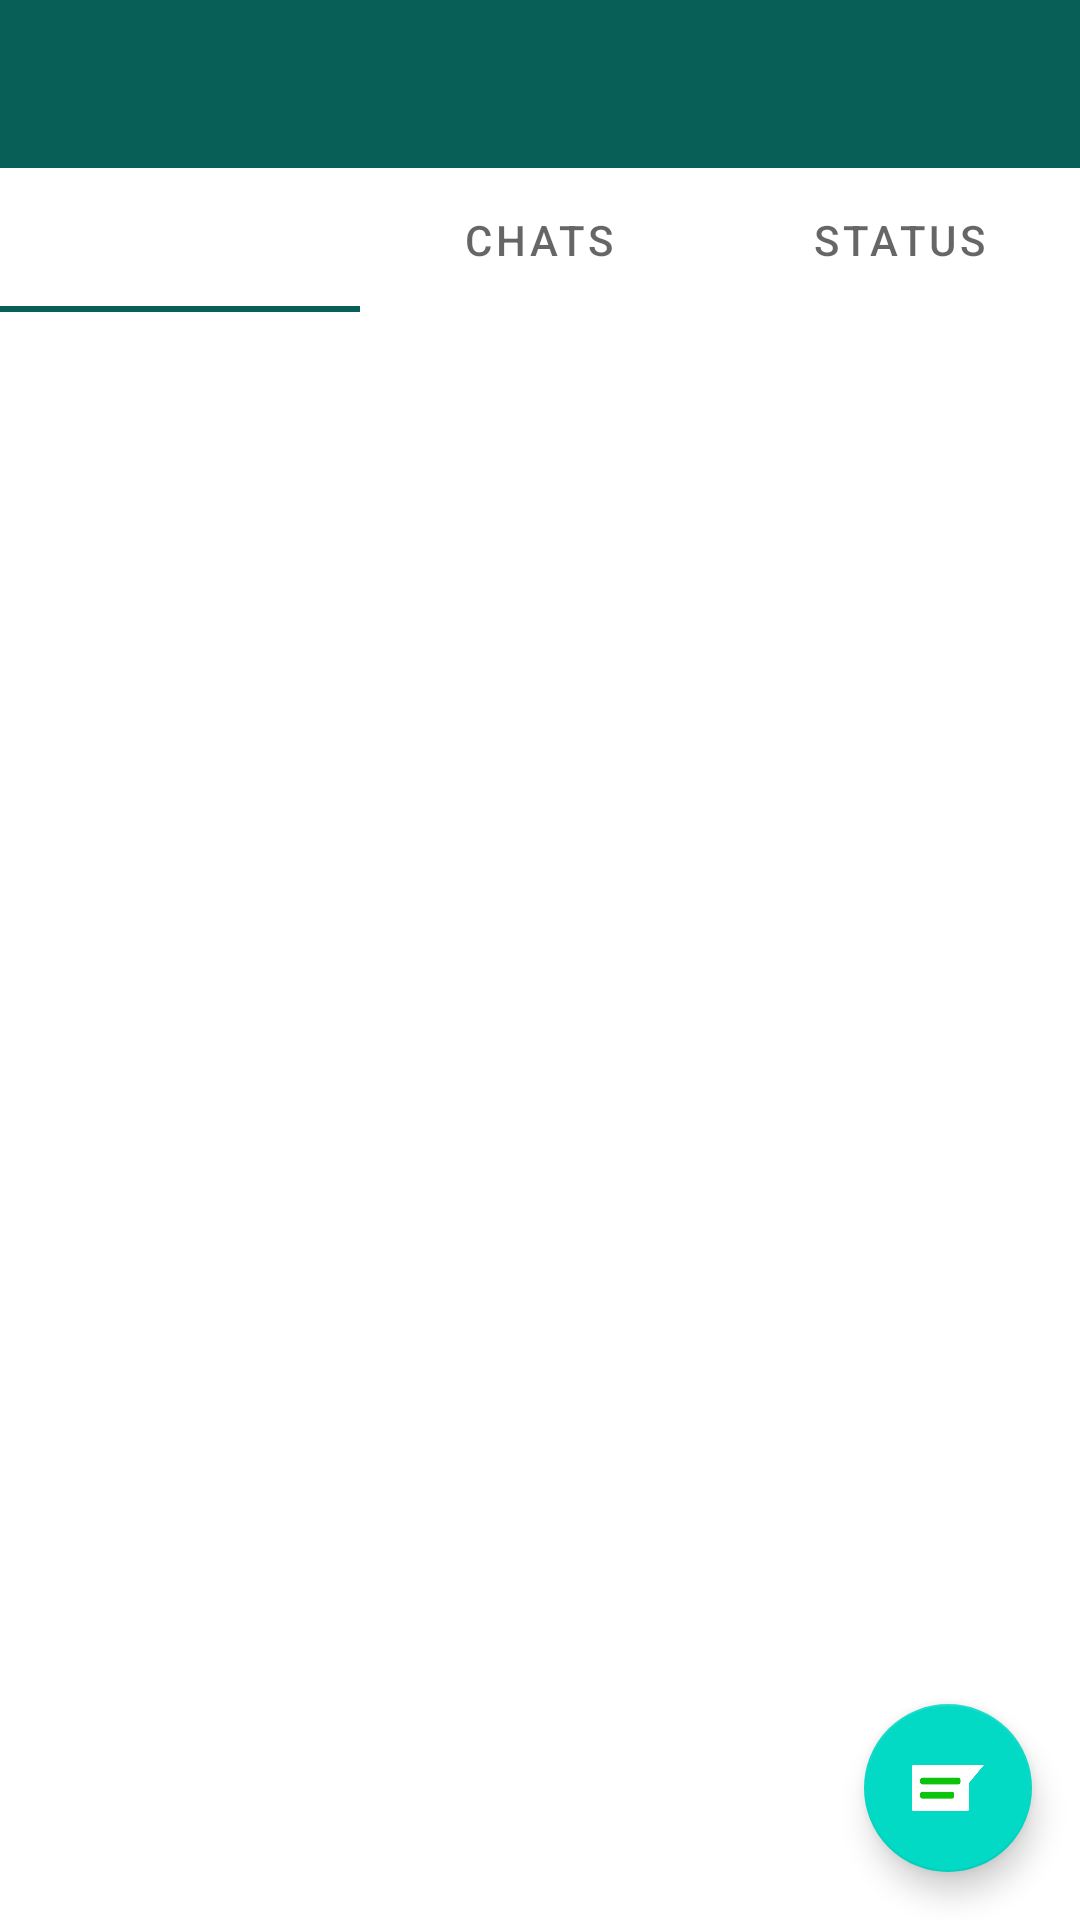

Point at icon controls on the screen. Image size 1080×1920, points as (x=x, y=y).
chat: (x=948, y=1788)
